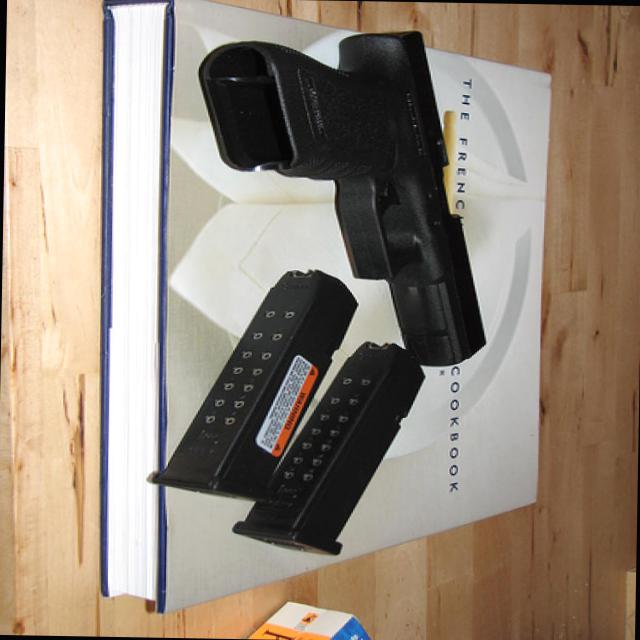handgun: (197, 22, 495, 366)
